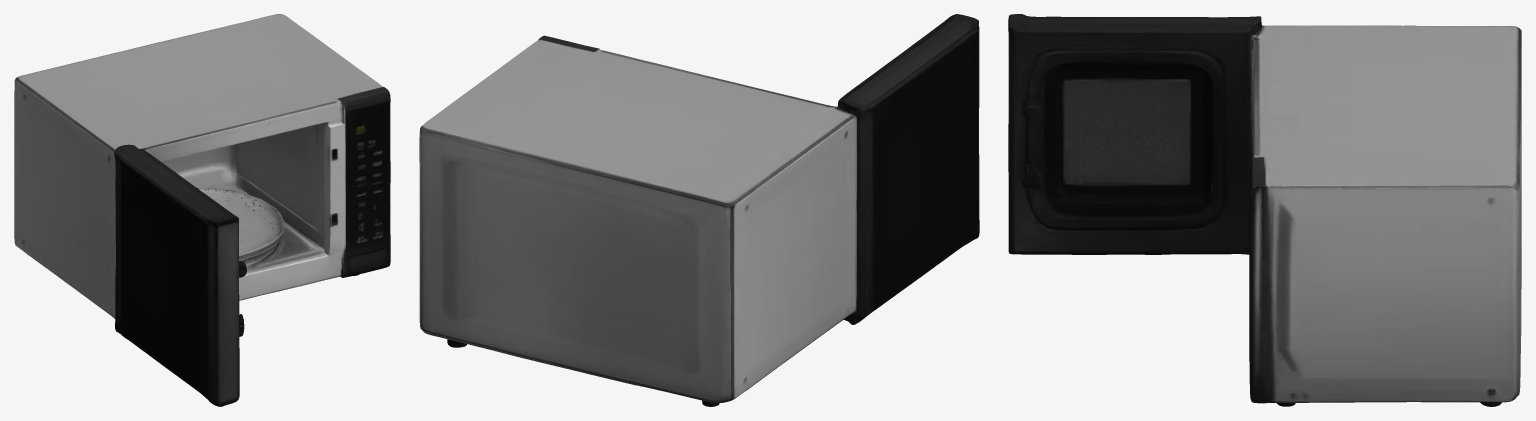
The picture shows the model from 3 angles, left to right: view 1: azimuth 30°, elevation 25°; view 2: azimuth 150°, elevation 25°; view 3: azimuth 270°, elevation 25°; orthographic projection. The views are drawn at different scales.
Parts seen in each view (by area): view 1: geometry_0, visual__1__door; view 2: geometry_0, visual__1__door; view 3: geometry_0, visual__1__door.
Boxes of the visible parts, <box> form: geometry_0: <box>14,14,390,314</box>; visual__1__door: <box>109,142,246,406</box>; geometry_0: <box>419,35,846,406</box>; visual__1__door: <box>818,14,979,324</box>; geometry_0: <box>1249,25,1521,406</box>; visual__1__door: <box>1008,14,1280,254</box>.
Bounding box in the file's own units: 0.4956 × 0.3328 × 0.6454.
1 material, 1 textured.
